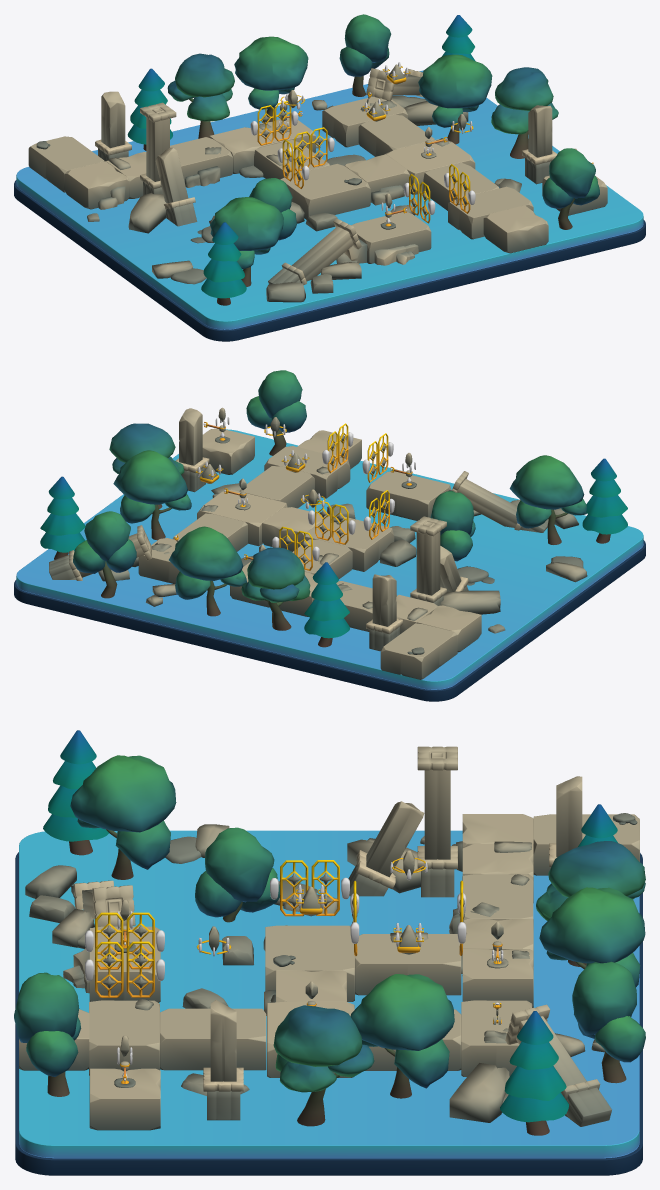
File: level_2.fbx
The picture shows the model from 3 angles, top to bottom: view 1: azimuth 30°, elevation 25°; view 2: azimuth 150°, elevation 25°; view 3: azimuth 270°, elevation 25°; orthographic projection. The views are drawn at different scales.
Parts seen in each view (by area): view 1: Plane.002, Sphere.016, Sphere.021, Sphere.020, Sphere.017, Sphere.013, Cube.094, Sphere.018, Sphere.014, Sphere.012, Cube.072, Cube.078 (+29 smaller); view 2: Plane.002, Sphere.021, Sphere.013, Sphere.016, Sphere.020, Sphere.014, Cube.088, Sphere.018, Cube.078, Sphere.019, Sphere.012, Cube.092 (+25 smaller); view 3: Plane.002, Sphere.013, Sphere.016, Sphere.017, Sphere.021, Sphere.014, Sphere.018, Sphere.022, Sphere.015, Cube.079, Cube.092, Sphere.020 (+37 smaller).
Boxes of the visible parts, x1,y1,x2,y2 form: Plane.002: (14,70,645,341); Sphere.016: (418,54,492,144); Sphere.021: (234,36,308,122); Sphere.020: (167,53,234,138); Sphere.017: (491,67,558,158); Sphere.013: (210,197,283,286); Cube.094: (280,163,370,219); Sphere.018: (542,148,599,229); Sphere.014: (339,14,391,96); Sphere.012: (201,222,246,305); Cube.072: (483,205,548,253); Cube.078: (351,211,431,263); Plane.002: (14,429,645,701); Sphere.021: (169,526,246,616); Sphere.013: (509,455,586,544); Sphere.016: (113,450,191,540); Sphere.020: (241,547,310,630); Sphere.014: (73,511,136,598); Cube.088: (380,623,457,679); Sphere.018: (246,370,306,455); Cube.078: (366,471,451,520); Sphere.019: (304,562,349,647); Sphere.012: (582,458,627,543); Cube.092: (410,516,446,605); Plane.002: (15,830,642,1175); Sphere.013: (70,755,176,879); Sphere.016: (350,974,454,1098); Sphere.017: (273,1005,374,1126); Sphere.021: (539,887,645,987); Sphere.014: (572,961,645,1083); Sphere.018: (14,972,81,1096); Sphere.022: (195,827,279,922); Sphere.015: (500,1011,568,1135); Cube.079: (160,1008,266,1070); Cube.092: (417,746,457,897); Sphere.020: (536,841,645,966).
Bounding box in the file's own units: 2121 × 551 × 1782.
3 materials, 2 textured.
